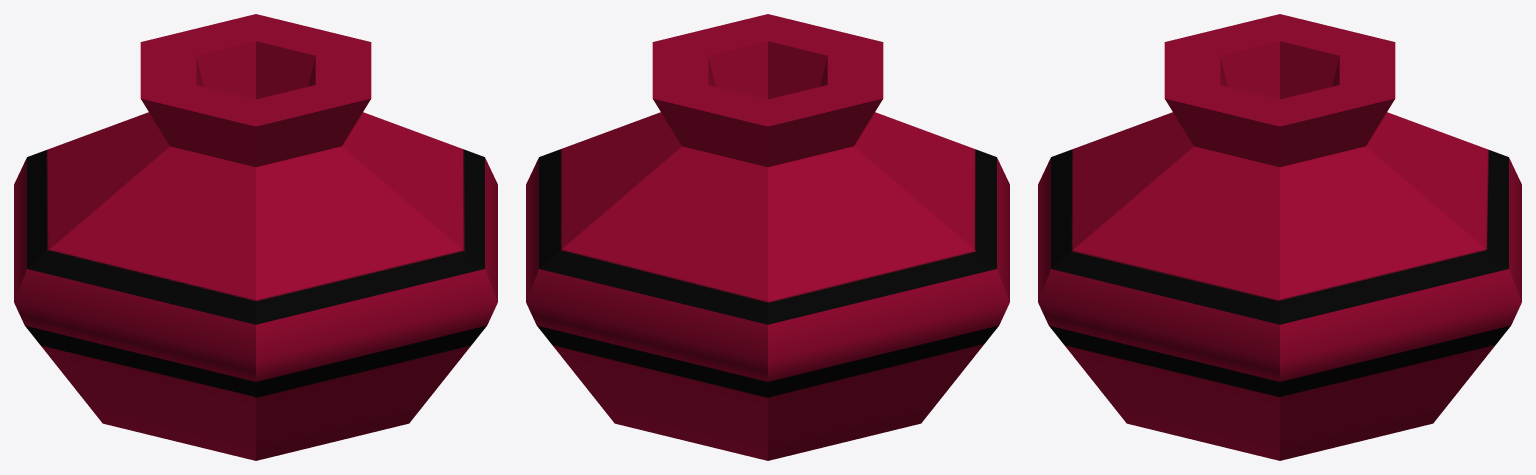
The model's file is SmallGourd_Textured.fbx.
The picture shows the model from 3 angles, left to right: view 1: azimuth 30°, elevation 25°; view 2: azimuth 150°, elevation 25°; view 3: azimuth 270°, elevation 25°; orthographic projection.
Parts seen in each view (by area): view 1: SmallGourd; view 2: SmallGourd; view 3: SmallGourd.
Boxes of the visible parts, x1,y1,x2,y2 form: SmallGourd: [14, 14, 497, 460]; SmallGourd: [526, 14, 1009, 460]; SmallGourd: [1038, 14, 1521, 460].
Size of the model in its own units: 1.85 by 1.15 by 1.6.
